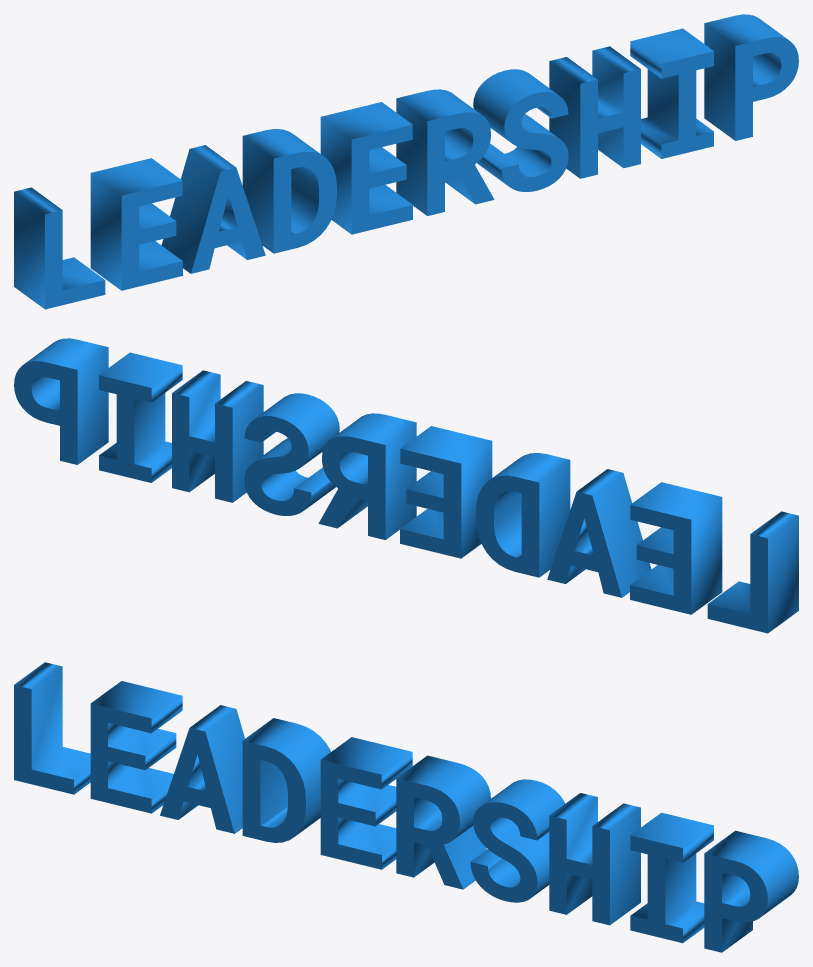
File: Leadership.fbx
3 renders of one model, top to bottom at view 1: azimuth 30°, elevation 25°; view 2: azimuth 150°, elevation 25°; view 3: azimuth 330°, elevation 25°, orthographic.
Visible parts, largest first — view 1: $ColladaAutoName$_1; view 2: $ColladaAutoName$_1; view 3: $ColladaAutoName$_1.
Boxes of the visible parts, x1,y1,x2,y2 form: $ColladaAutoName$_1: [14, 14, 798, 309]; $ColladaAutoName$_1: [14, 338, 798, 633]; $ColladaAutoName$_1: [14, 662, 798, 952].
Bounding box in the file's own units: 819 × 101 × 58.4.
